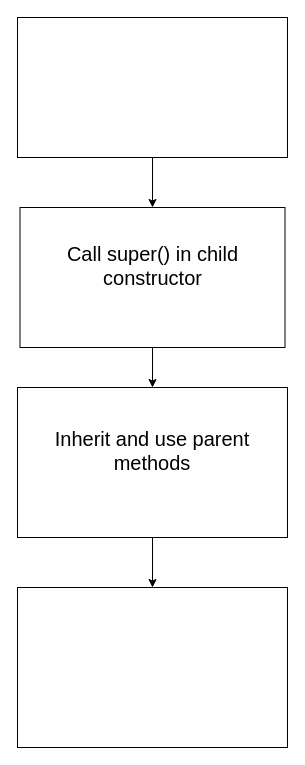
The diagram is 305 pixels wide and 765 high, and some of its shapes have lost their labels. Here are the shapes that lost their labels. From the top down, the centre of each, then its label:
point (152, 87): Start: Create HealthPatient / FinanceInvestment object
point (152, 667): End: Print risk and return
